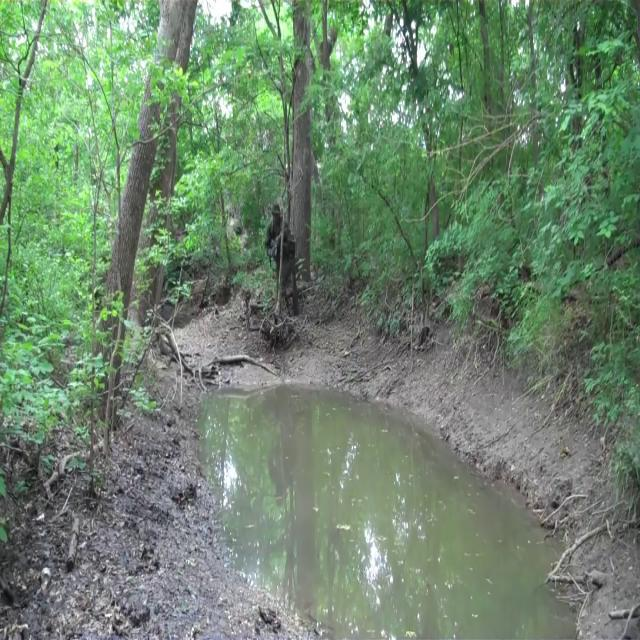MIL_Pax: (261, 202, 299, 316)
